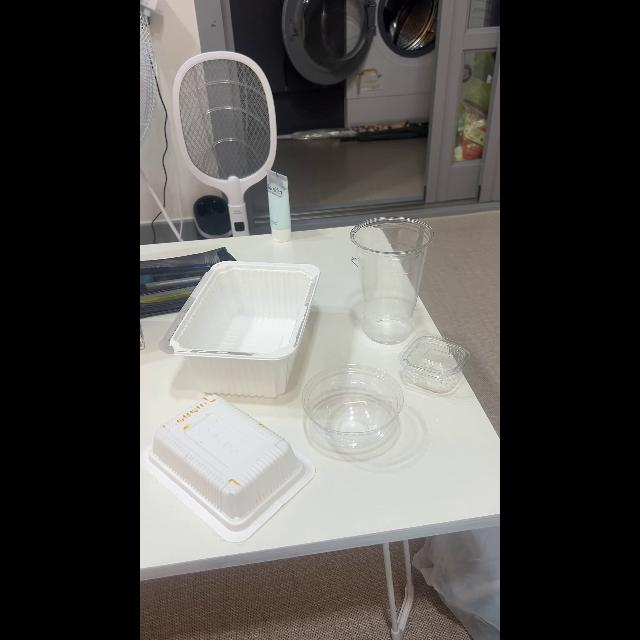clean: (181, 260, 319, 388), (350, 218, 434, 336), (300, 363, 406, 451), (398, 334, 470, 392)
dirty: (153, 398, 295, 514)
